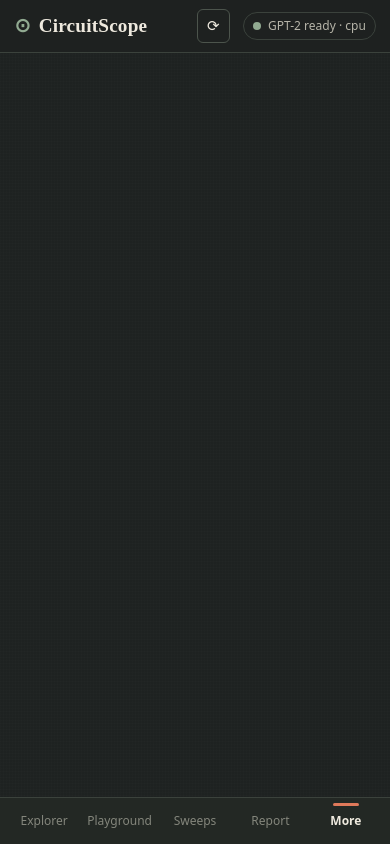
Test: site navigation › phone tab bar has four tabs plus a More sheet with every page, closed by Escape
Click the button "More" at (346, 820), box [308, 803, 384, 837]
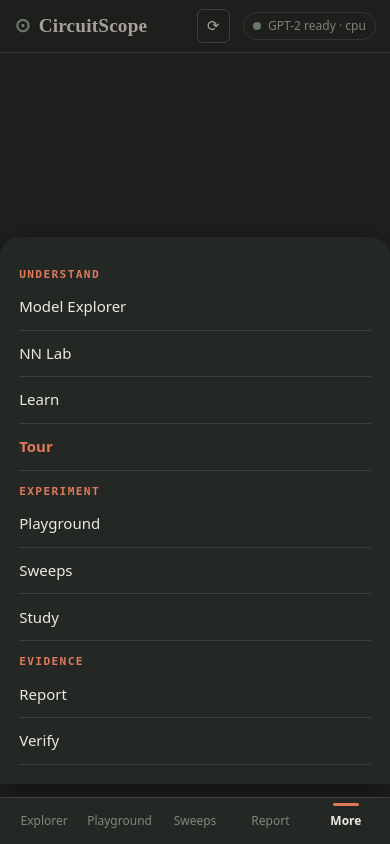
Press Escape
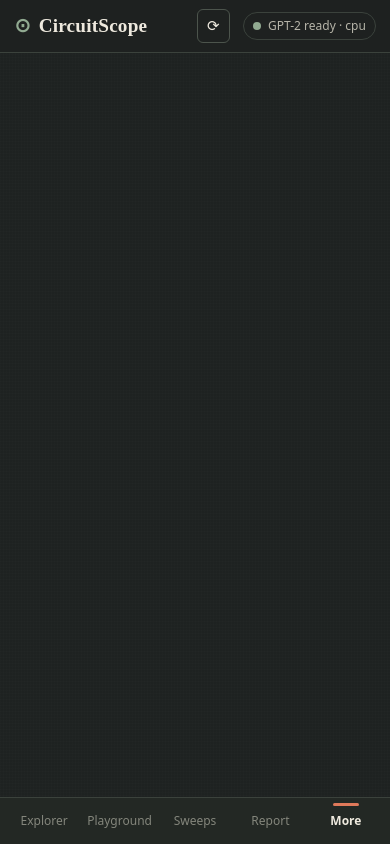
expect the dialog is gone: met
